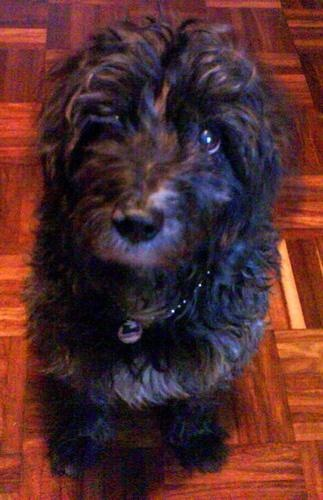dog: (24, 11, 285, 482)
